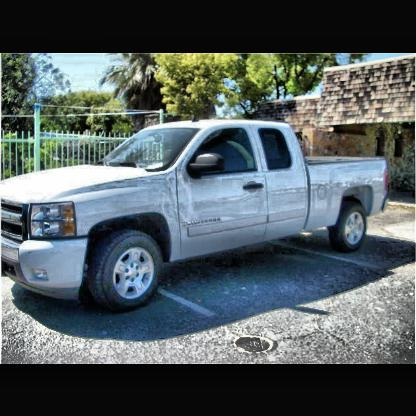Chevrolet Silverado 1500 Extended Cab 2012: (2, 118, 391, 316)
